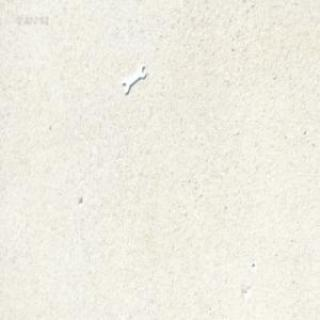Wrenchtrack_idkeyframe: (122, 65, 145, 95)
